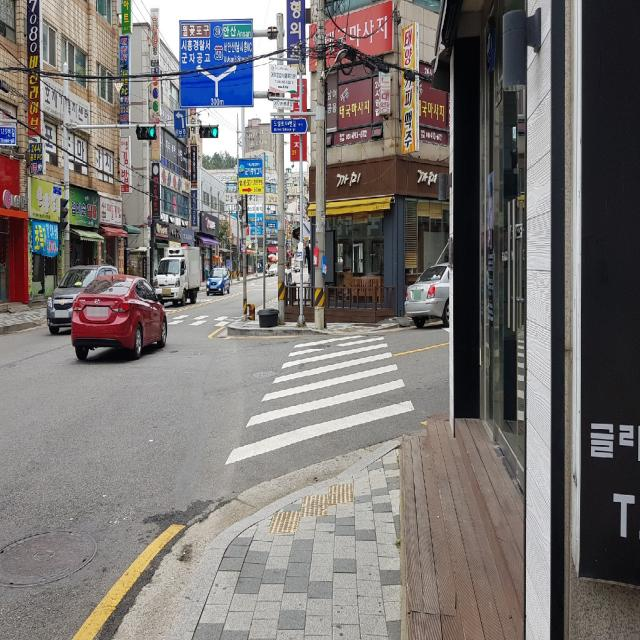횡단보도: (224, 329, 416, 469), (170, 306, 230, 331)
